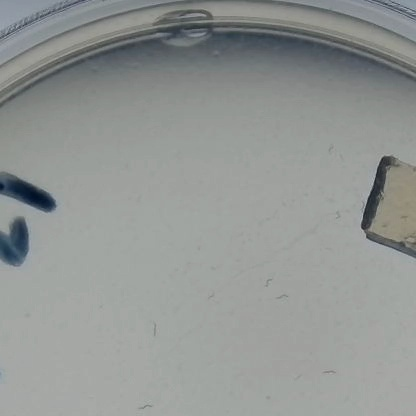worm: (314, 142, 338, 167), (138, 395, 165, 416), (193, 287, 226, 303), (317, 361, 344, 380), (143, 319, 165, 342), (271, 290, 295, 311), (258, 275, 279, 295), (286, 369, 310, 385), (327, 208, 347, 227)
